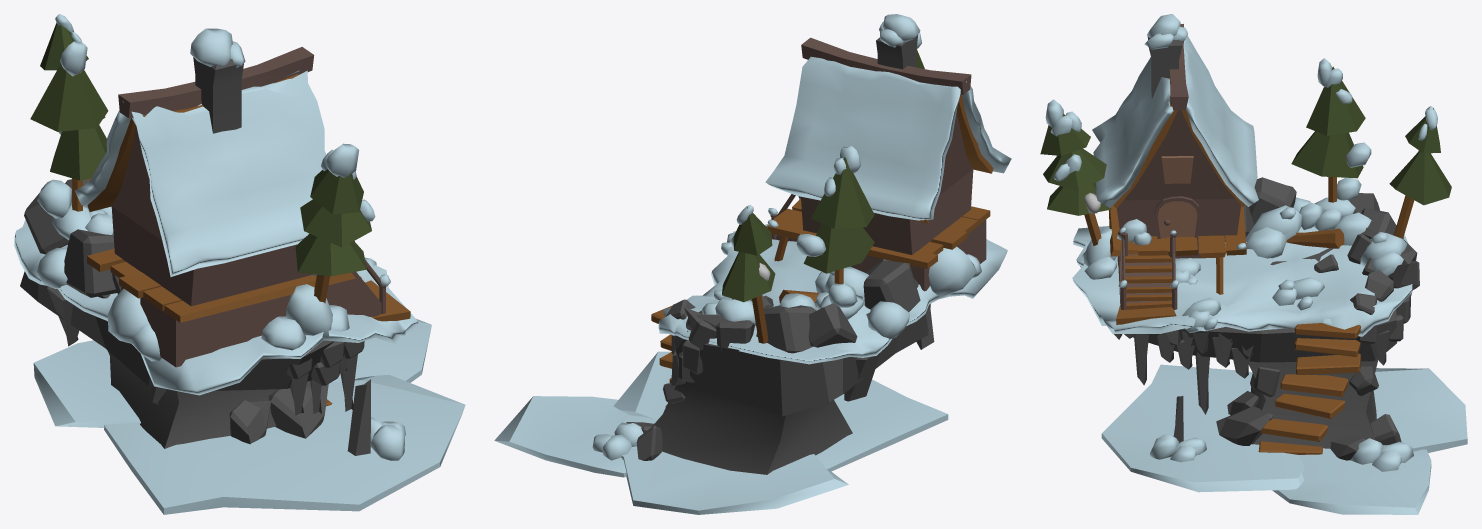
The picture shows the model from 3 angles, left to right: view 1: azimuth 30°, elevation 25°; view 2: azimuth 150°, elevation 25°; view 3: azimuth 270°, elevation 25°; orthographic projection. The views are drawn at different scales.
Parts seen in each view (by area): view 1: pCube89_130, pCube94_159, pCube62_55, pCube5_2, pCube7_4, pCube66_58, pCube2_1, pCube1_0, pCube69_61, pCone3_66, pCube64_56, pCube68_60 (+32 smaller); view 2: pCube88_129, pCube2_1, pCube66_58, pCube1_0, pCube62_55, pCube94_159, pCube64_56, pCube5_2, pCube69_61, pCone3_66, pCone4_67, pCube50_44 (+21 smaller); view 3: pCube62_55, pCube94_159, pCube64_56, pCube66_58, pCube88_129, pCube89_130, pCube2_1, pCube6_3, pCube1_0, pCube5_2, pCone4_67, pCone2_65 (+49 smaller).
Boxes of the visible parts, bbox=[...] form: pCube89_130: bbox=[122, 70, 326, 276]; pCube94_159: bbox=[104, 374, 465, 514]; pCube62_55: bbox=[14, 220, 418, 395]; pCube5_2: bbox=[111, 206, 312, 306]; pCube7_4: bbox=[140, 279, 381, 367]; pCube66_58: bbox=[33, 340, 140, 427]; pCube2_1: bbox=[107, 350, 277, 448]; pCube1_0: bbox=[20, 271, 334, 390]; pCube69_61: bbox=[118, 47, 314, 118]; pCone3_66: bbox=[30, 63, 108, 131]; pCube64_56: bbox=[332, 319, 431, 382]; pCube68_60: bbox=[193, 57, 243, 133]; pCube88_129: bbox=[765, 56, 960, 220]; pCube2_1: bbox=[652, 383, 852, 474]; pCube66_58: bbox=[621, 446, 848, 514]; pCube1_0: bbox=[674, 304, 930, 416]; pCube62_55: bbox=[658, 224, 1007, 364]; pCube94_159: bbox=[613, 351, 948, 471]; pCube64_56: bbox=[494, 396, 657, 477]; pCube5_2: bbox=[801, 169, 973, 254]; pCube69_61: bbox=[801, 37, 971, 94]; pCone3_66: bbox=[811, 157, 874, 228]; pCone4_67: bbox=[803, 223, 874, 273]; pCube50_44: bbox=[863, 260, 920, 311]; pCube62_55: bbox=[1072, 226, 1412, 336]; pCube94_159: bbox=[1101, 364, 1304, 492]; pCube64_56: bbox=[1272, 448, 1431, 514]; pCube66_58: bbox=[1373, 368, 1467, 452]; pCube88_129: bbox=[1183, 35, 1258, 206]; pCube89_130: bbox=[1092, 57, 1174, 207]; pCube2_1: bbox=[1248, 357, 1378, 448]; pCube6_3: bbox=[1124, 110, 1235, 200]; pCube1_0: bbox=[1080, 248, 1411, 362]; pCube5_2: bbox=[1117, 199, 1240, 236]; pCone4_67: bbox=[1291, 131, 1363, 178]; pCone2_65: bbox=[1389, 151, 1451, 205].
Bounding box in the file's own units: 1.88 × 2.08 × 2.08.
